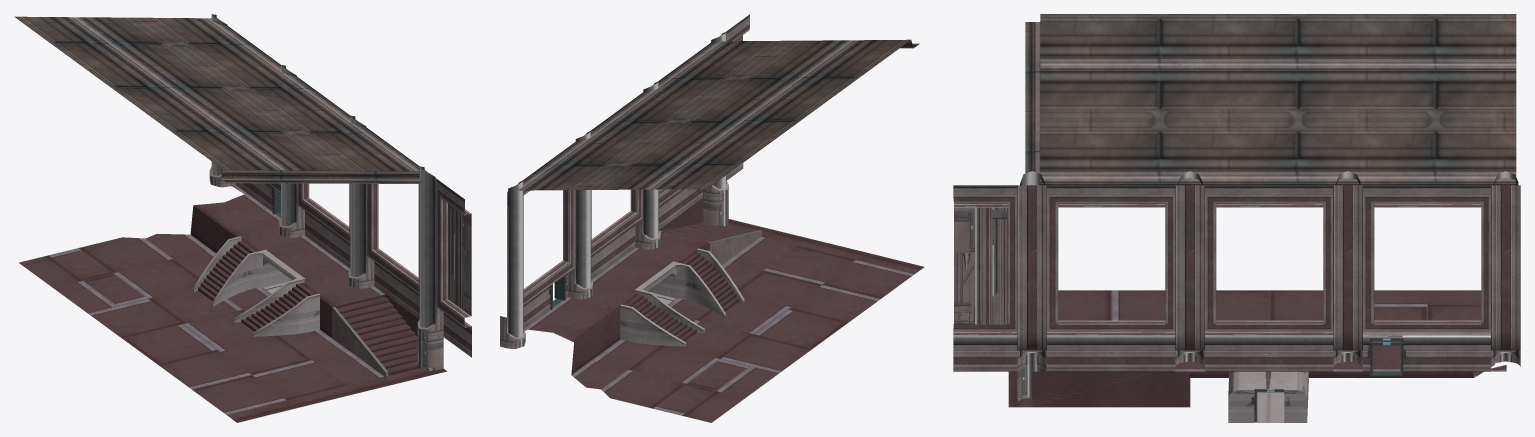
File: Cor1_bldg_Grand_hall.fbx
The picture shows the model from 3 angles, left to right: view 1: azimuth 30°, elevation 25°; view 2: azimuth 150°, elevation 25°; view 3: azimuth 270°, elevation 25°; orthographic projection. The views are drawn at different scales.
Parts seen in each view (by area): view 1: grandhall_1, polymsh_detached153, polymsh_detached81, polymsh_detached111, polymsh1377, polymsh_detached19, polymsh1298, hall, stards; view 2: grandhall_1, polymsh_detached153, polymsh_detached81, polymsh1377, polymsh_detached111, stards, polymsh1298, polymsh_detached19, hall; view 3: polymsh_detached153, polymsh_detached81, grandhall_1, polymsh_detached111, polymsh1377.
Part boxes in pixels (bbox=[...]): grandhall_1: bbox=[19, 185, 447, 422]; polymsh_detached153: bbox=[14, 16, 426, 183]; polymsh_detached81: bbox=[209, 14, 419, 318]; polymsh_detached111: bbox=[417, 166, 471, 370]; polymsh1377: bbox=[192, 236, 319, 336]; polymsh_detached19: bbox=[335, 294, 418, 375]; polymsh1298: bbox=[198, 240, 256, 300]; hall: bbox=[332, 306, 388, 377]; stards: bbox=[241, 283, 314, 331]; grandhall_1: bbox=[524, 198, 924, 422]; polymsh_detached153: bbox=[514, 39, 919, 190]; polymsh_detached81: bbox=[500, 81, 702, 348]; polymsh1377: bbox=[620, 248, 744, 346]; polymsh_detached111: bbox=[703, 14, 749, 226]; stards: bbox=[682, 252, 739, 311]; polymsh1298: bbox=[625, 294, 696, 341]; polymsh_detached19: bbox=[661, 222, 752, 242]; hall: bbox=[708, 230, 761, 264]; polymsh_detached153: bbox=[1025, 14, 1516, 185]; polymsh_detached81: bbox=[1047, 171, 1520, 371]; grandhall_1: bbox=[1008, 290, 1506, 407]; polymsh_detached111: bbox=[953, 171, 1046, 402]; polymsh1377: bbox=[1228, 371, 1358, 422].
Size of what is drawn, in the model's own units: 3207 by 3090 by 5744.
